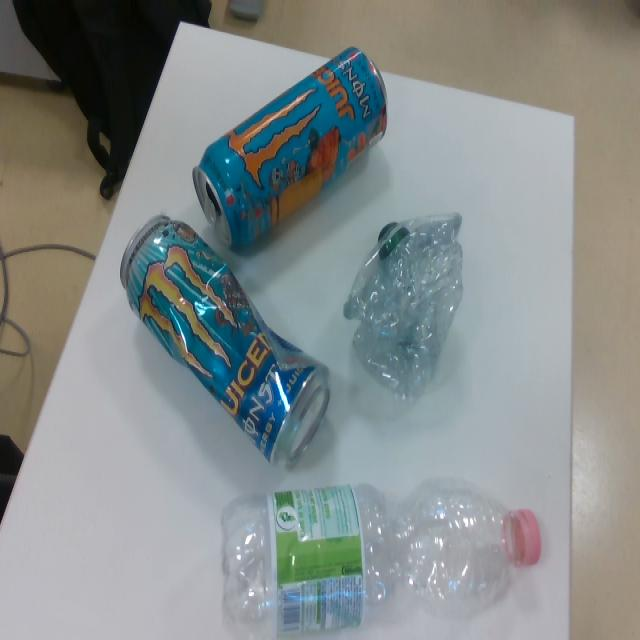aluminum: (112, 213, 331, 467), (191, 46, 390, 248)
plastic: (218, 473, 546, 640), (340, 210, 466, 404)
